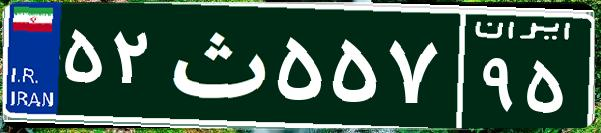2: (110, 28, 158, 105)
5: (273, 28, 330, 110), (330, 28, 385, 110), (57, 26, 110, 107), (525, 38, 570, 115)
7: (385, 28, 445, 110)
9: (475, 38, 525, 113)
ث: (158, 15, 273, 115)
